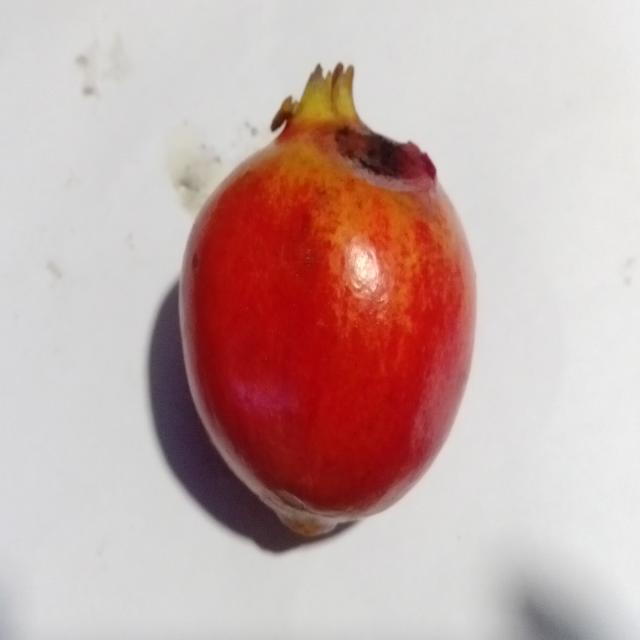Rotten: (177, 49, 483, 544)
